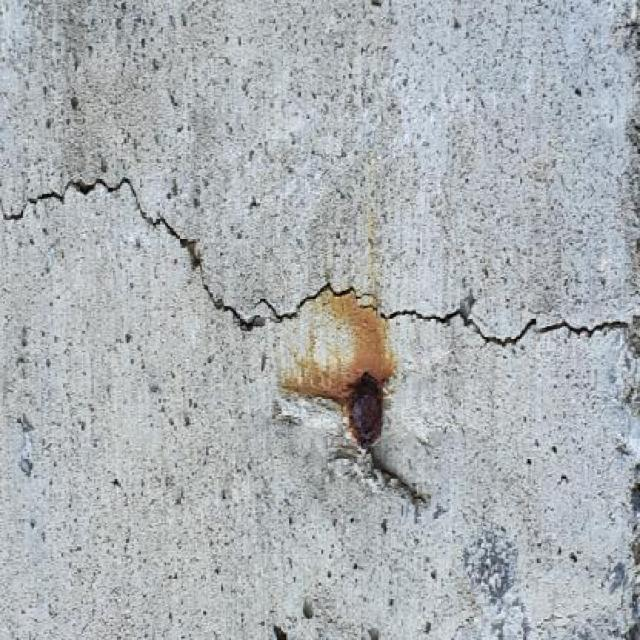horizontal crack: (25, 173, 538, 350), (537, 310, 638, 356), (0, 195, 26, 223)
